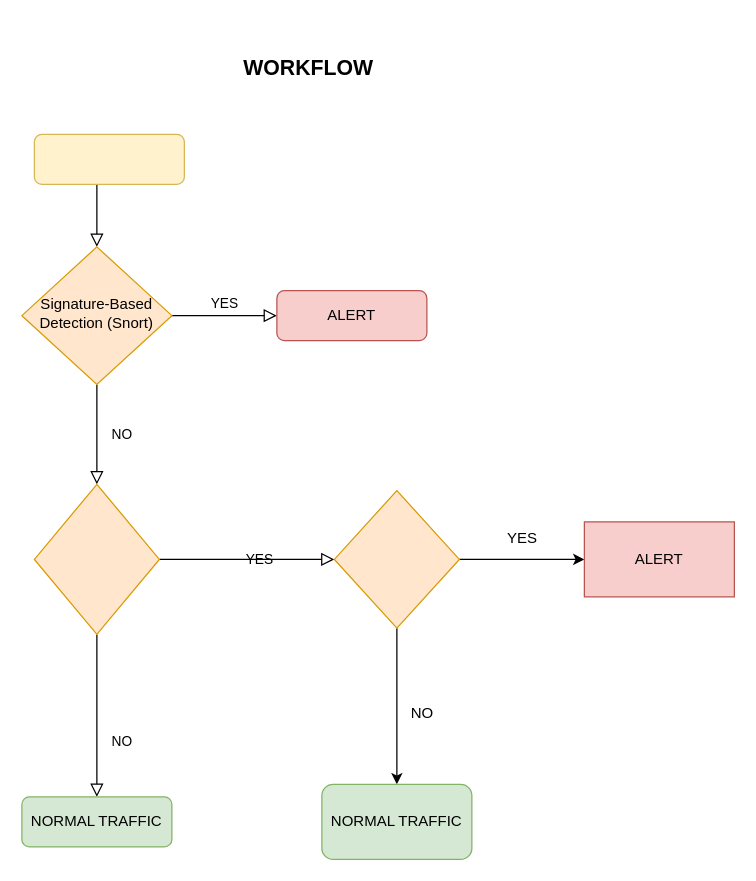
Some shapes in this 756 by 881 pixel diagram are drawn without their labels. Here are the shapes that lost their labels. From the top down, the box of each, then its label:
(33, 133, 184, 184): Live Packet Capture
(33, 483, 159, 634): Anomaly Detection ( Isolation Forest )
(333, 489, 459, 628): GAN - Based Validation
